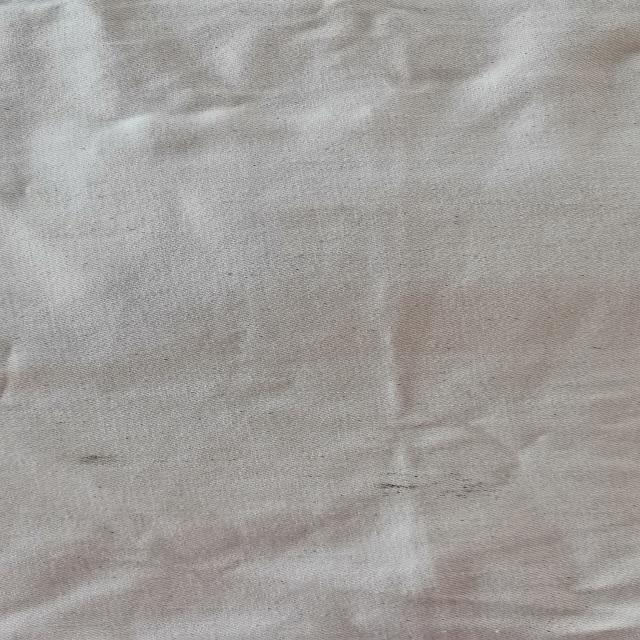taaaches: (345, 462, 523, 496), (62, 434, 140, 480)
